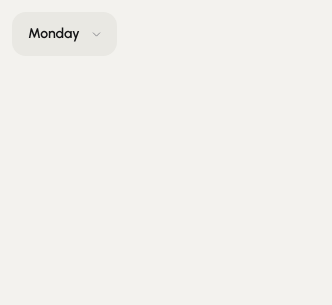
Scenario: Select › opens on click, marks the current value and chooses another
The image size is (332, 305).
Click the button with aria-label "Send on: Monday": (64, 34) [12, 12, 117, 56]
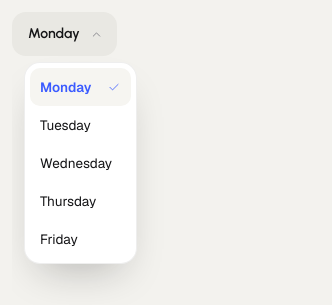
Click the option "Thursday": (68, 200) [40, 192, 96, 210]
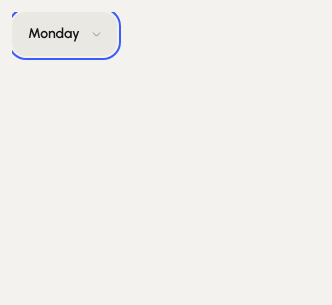
expect the list is gone: met
